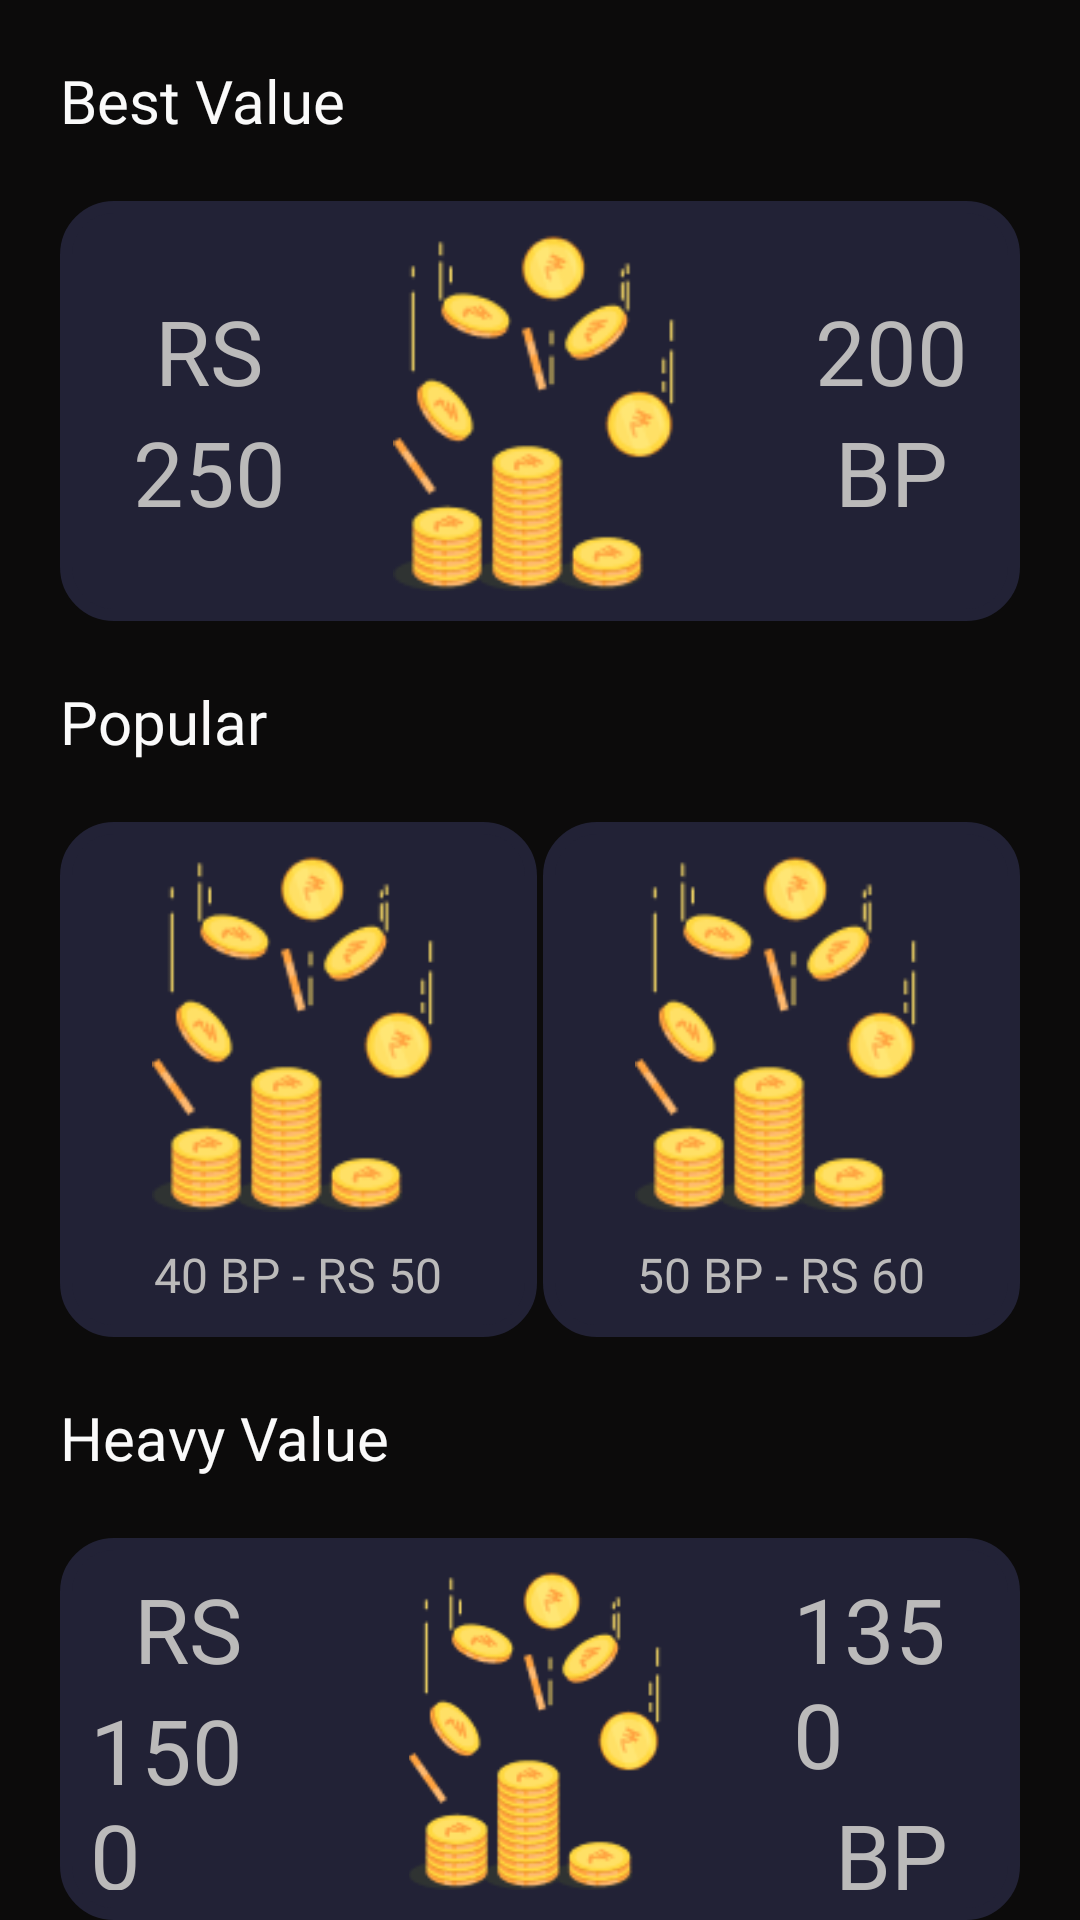

Locate icon controls on the screen. Image size 1080×1920, boxes as (x1, y1, x2, y2).
coin: (393, 236, 674, 589), (152, 857, 433, 1210), (635, 857, 916, 1210), (409, 1572, 660, 1888)
